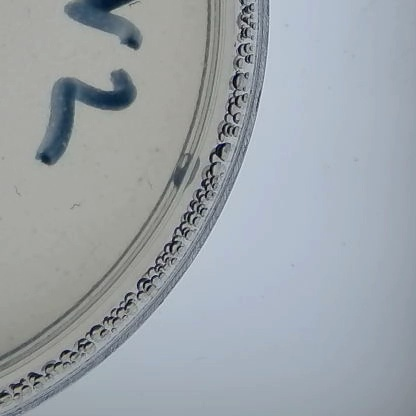worm: (10, 183, 25, 201), (67, 199, 85, 211), (145, 179, 159, 192)
